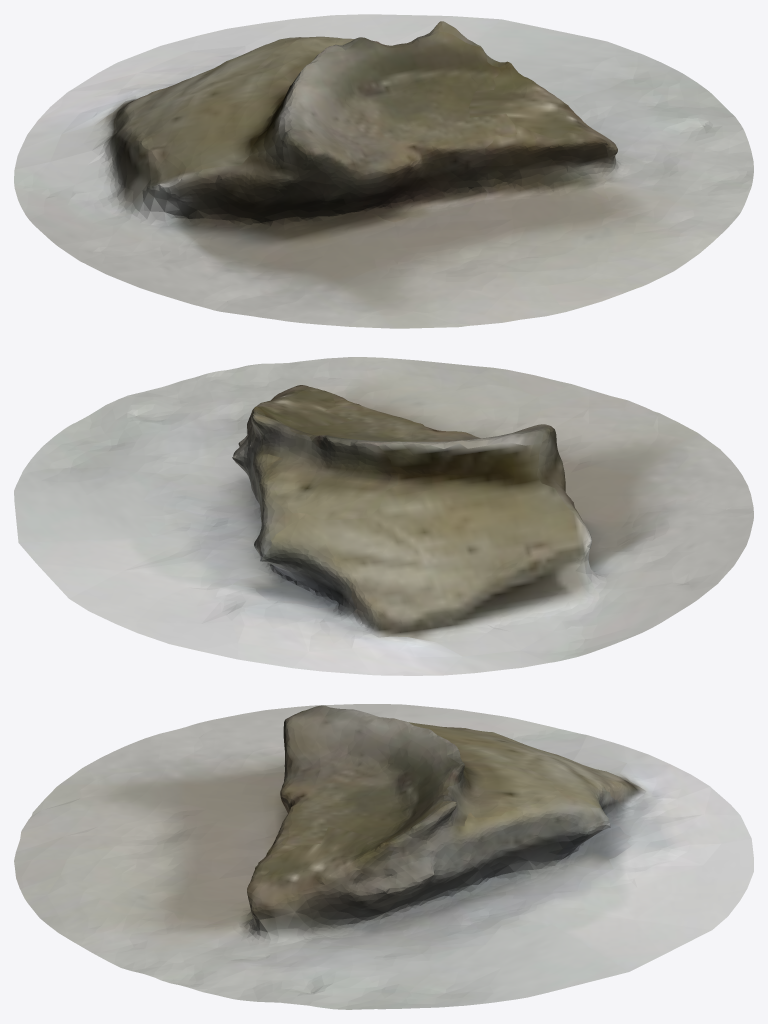
File: model02_small.glb
3 renders of one model, top to bottom at view 1: azimuth 30°, elevation 25°; view 2: azimuth 150°, elevation 25°; view 3: azimuth 270°, elevation 25°, orthographic.
Visible parts, largest first — view 1: mesh; view 2: mesh; view 3: mesh.
Part boxes in pixels (left/top/right/bottom): mesh: left=14, top=14, right=753, bottom=328; mesh: left=14, top=357, right=753, bottom=675; mesh: left=14, top=704, right=753, bottom=1009.
Size of the model in its own units: 0.1167 by 0.0196 by 0.117.
Materials: 1 (1 with a texture image).
